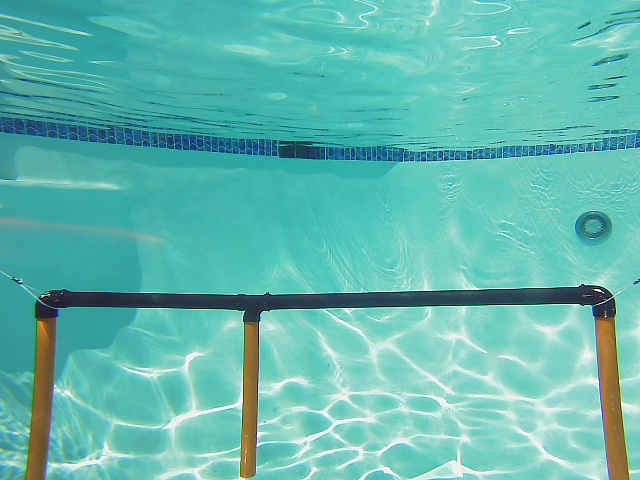Gate: (592, 310, 635, 480), (21, 312, 58, 480), (234, 313, 263, 478)
